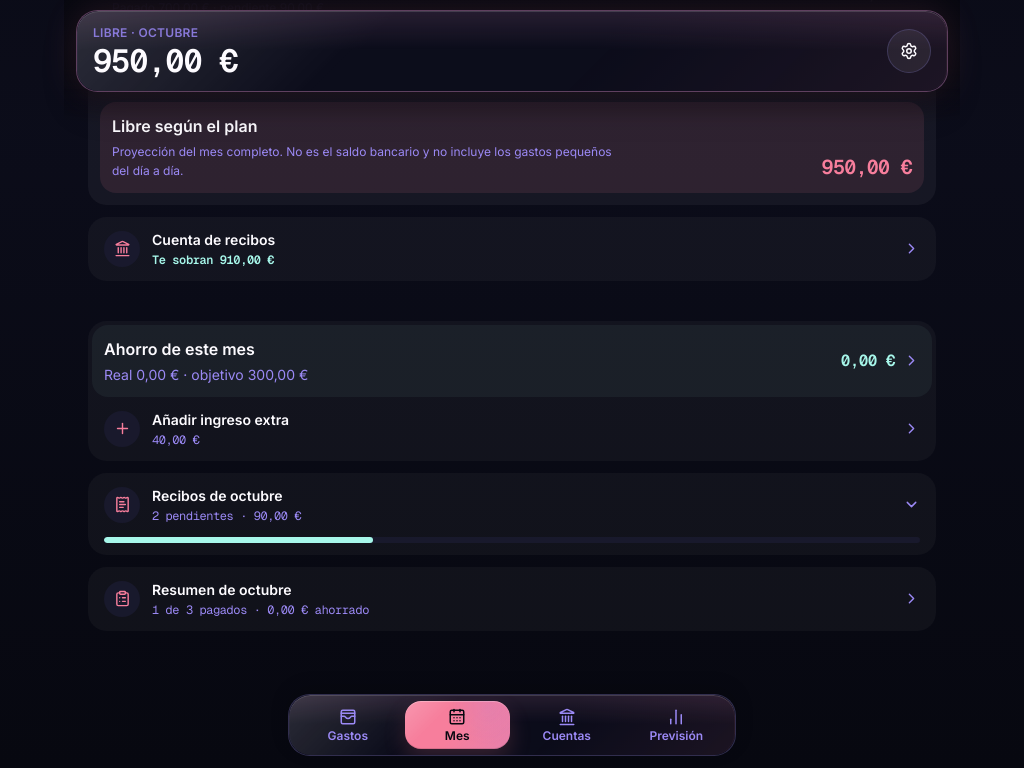
it: MonthDashboard › edits and removes the month's one-off income from its summary
(page scrolled)
Step 1. Click the button "Resumen de octubre 1 de 3 pagados · 0,00 € ahorrado" → (122, 599), box [92,571,932,627]
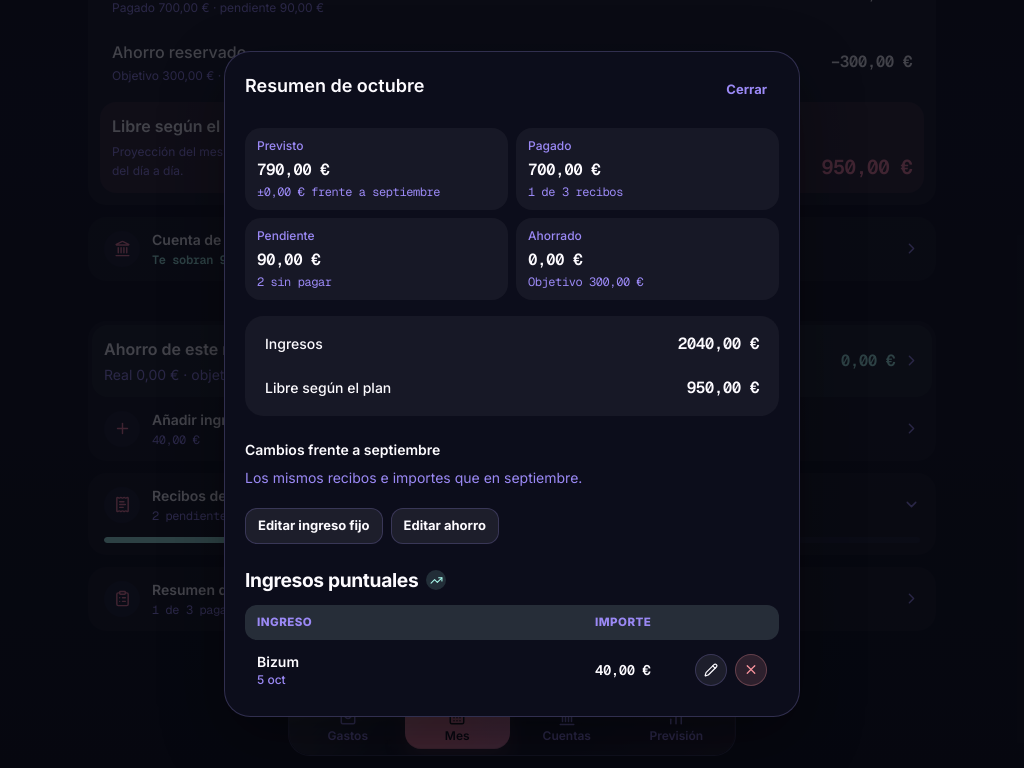
Step 2. Click the button named "Editar ingreso" → (711, 670), box [695,654,727,686]
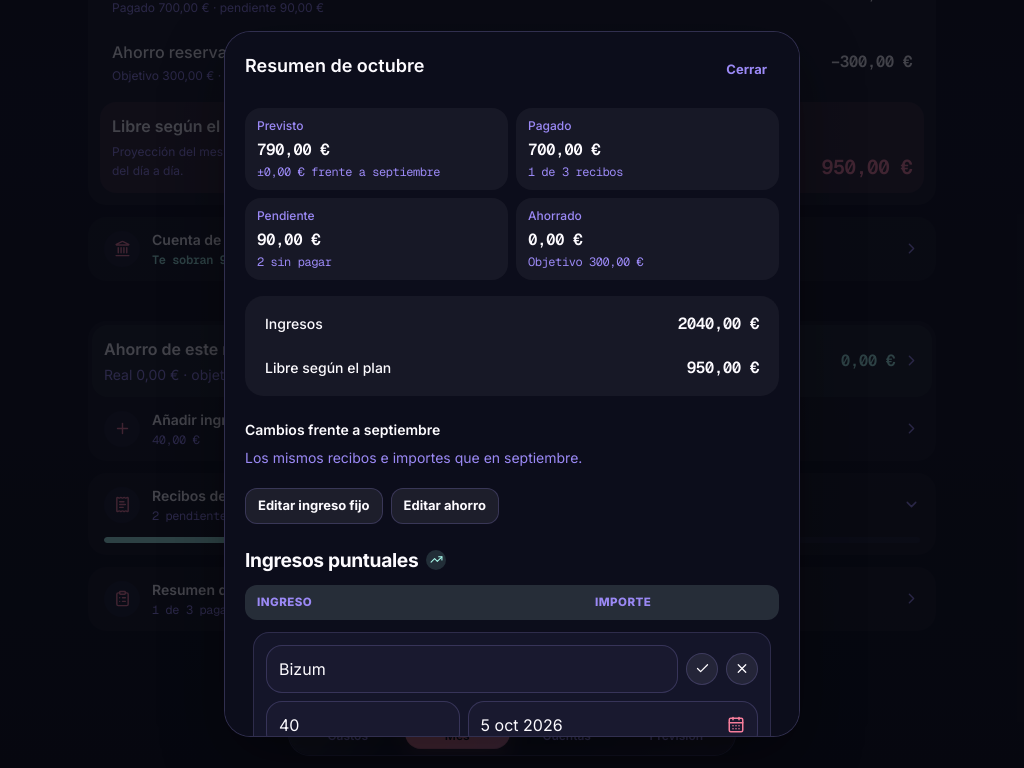
Step 3. Replace the text in the field named "Importe" with "55" → (363, 725), box [266,701,460,749]
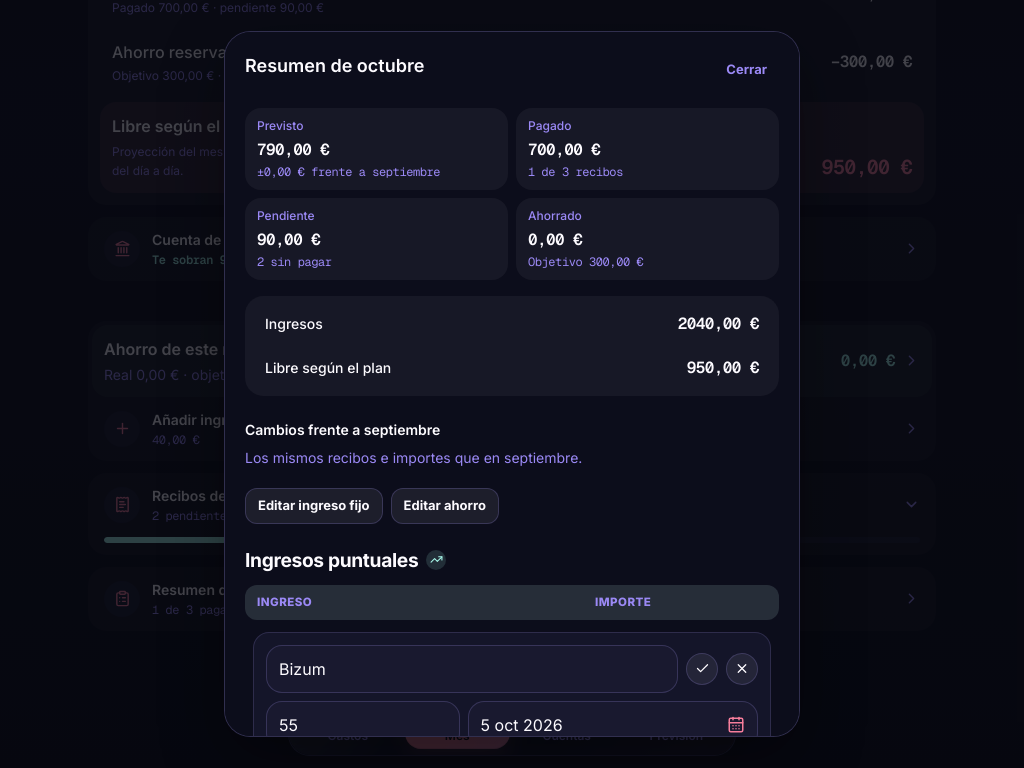
Step 4. Click the button named "Guardar ingreso" → (702, 669), box [686,653,718,685]
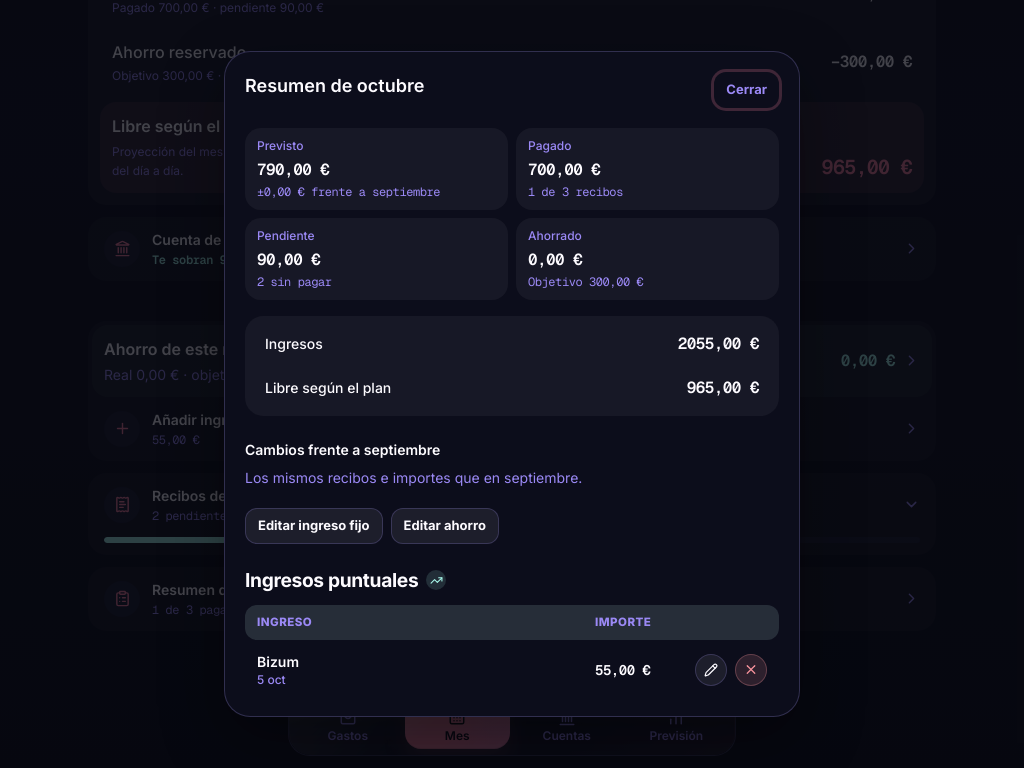
Step 5. Click the button named "Quitar ingreso" → (751, 670), box [735,654,767,686]
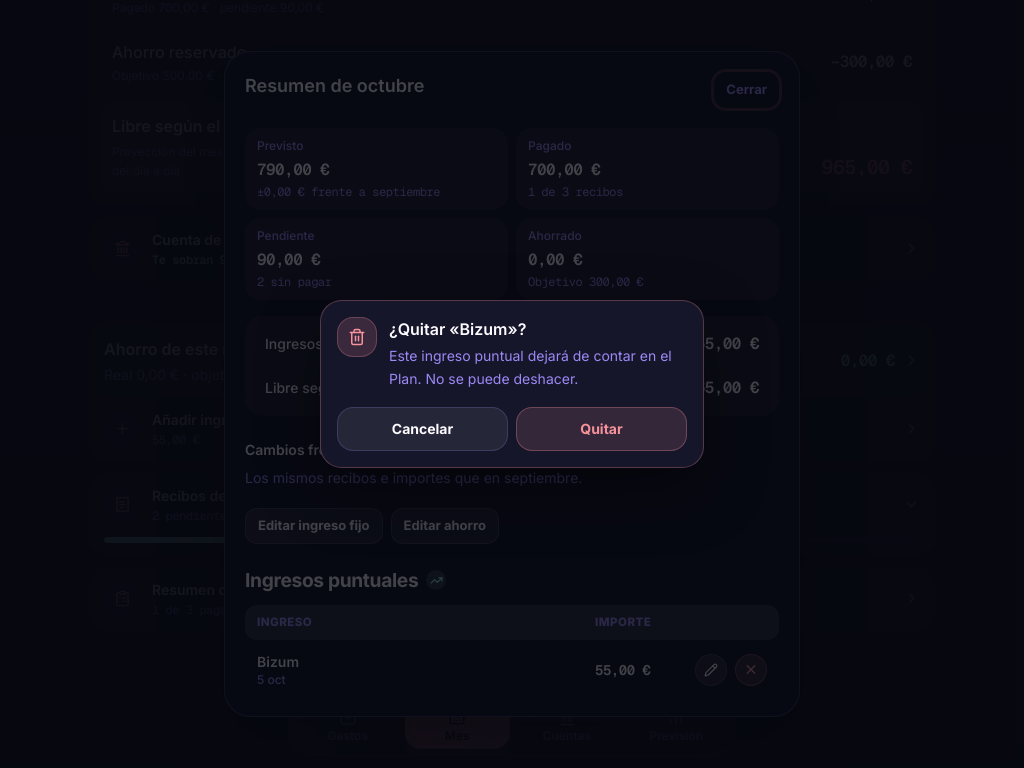
Step 6. Click the button "Quitar" → (602, 429), box [516,407,687,451]
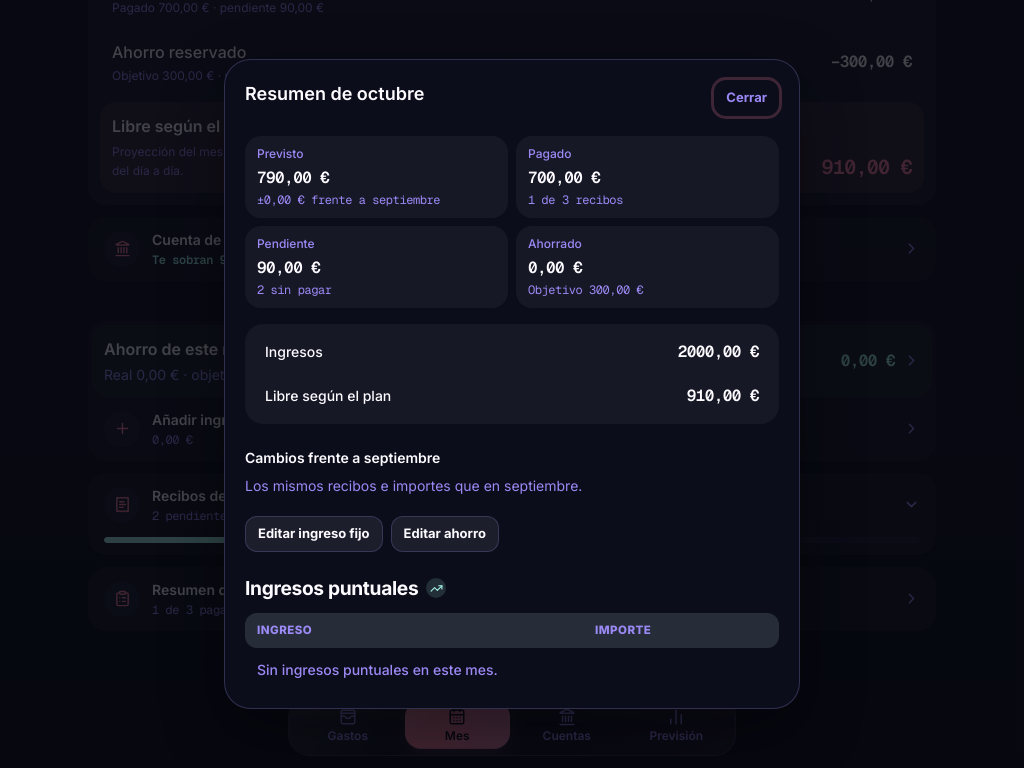
Expected: the text "Sin ingresos puntuales en este mes." is shown, [257,661,498,678]
